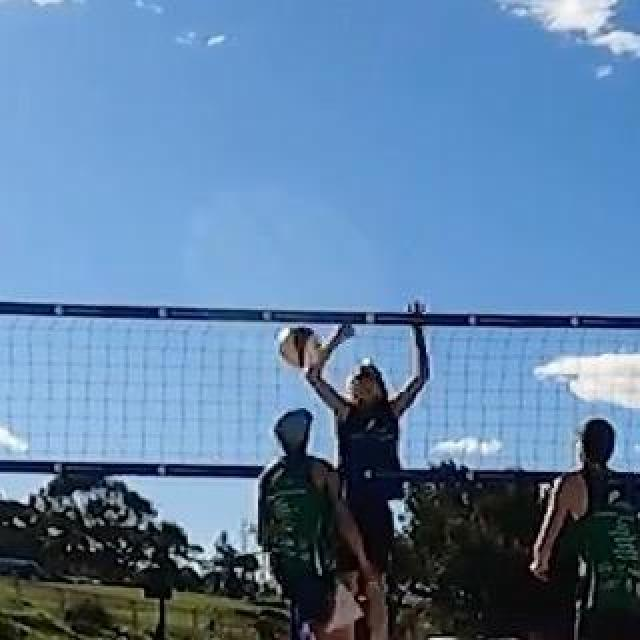volleyball: (278, 326, 320, 368)
